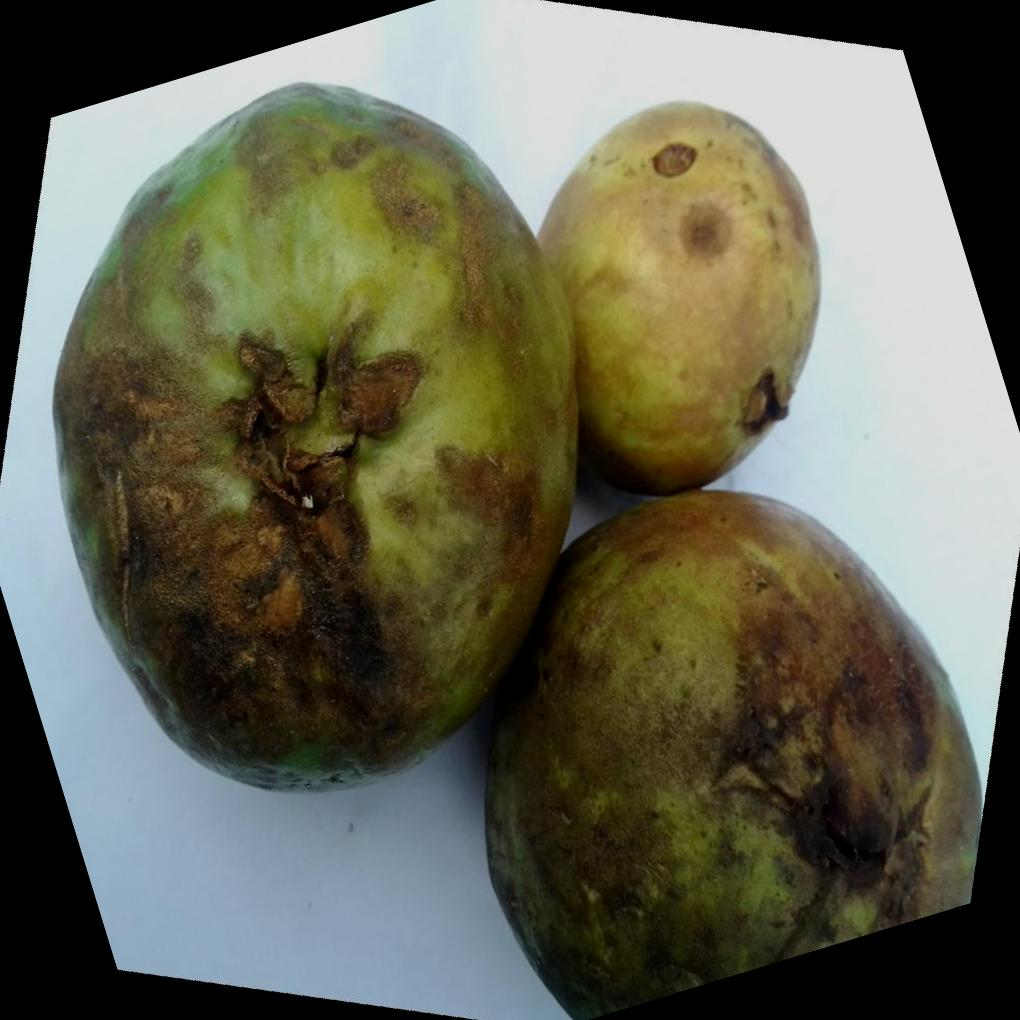FreshOrange: (50, 83, 984, 1020)
